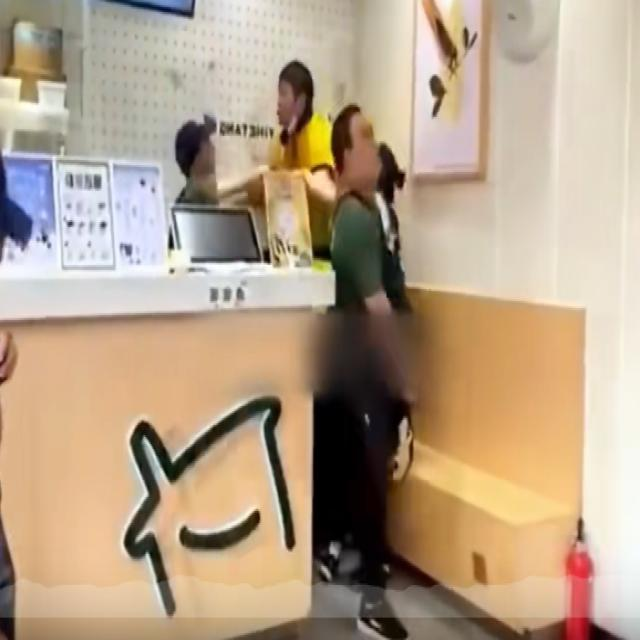nofight: (329, 108, 402, 624), (254, 44, 340, 249), (165, 112, 233, 251)
